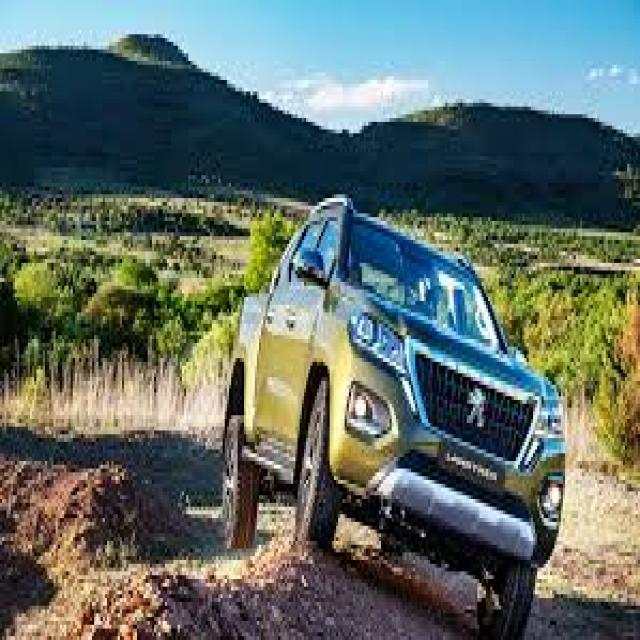Pickup Trucks: (227, 206, 565, 636)
